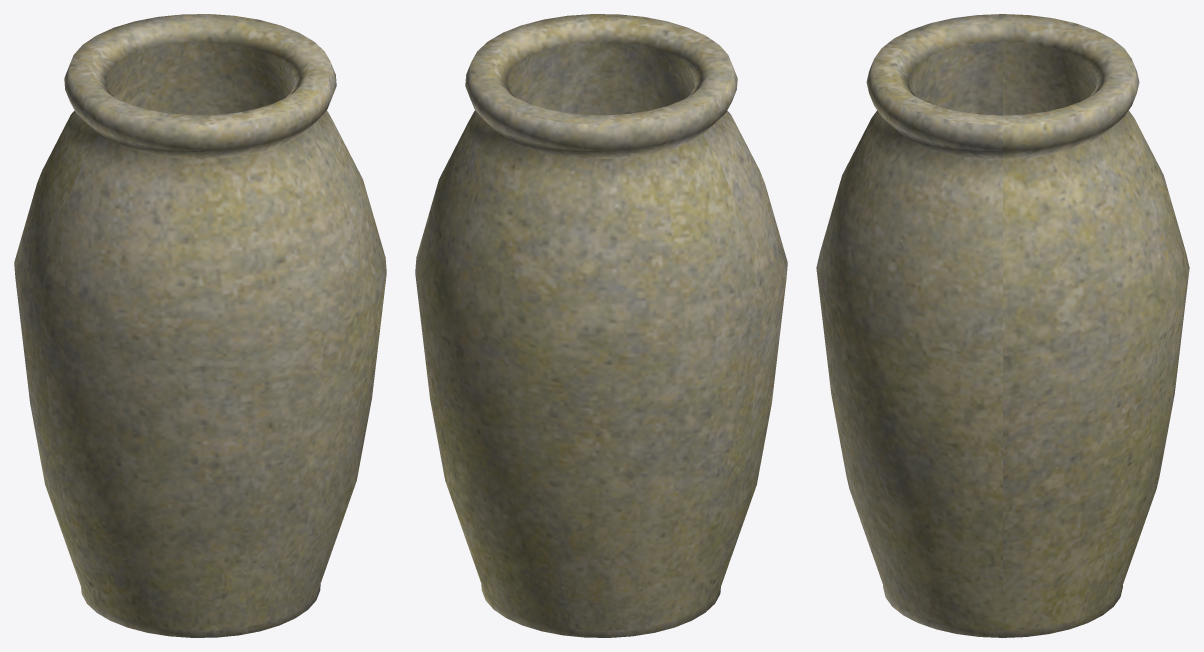
File: jov_porcelain01a.fbx
3 views of the same model, side by side, from view 1: azimuth 30°, elevation 25°; view 2: azimuth 150°, elevation 25°; view 3: azimuth 270°, elevation 25° (orthographic).
Parts seen in each view (by area): view 1: jov_porcelain01a; view 2: jov_porcelain01a; view 3: jov_porcelain01a.
Part boxes in pixels (x1,y1,x2,y2): jov_porcelain01a: (14, 14, 386, 637); jov_porcelain01a: (415, 14, 787, 637); jov_porcelain01a: (816, 14, 1189, 637).
Size of the model in its own units: 0.1945 by 0.2976 by 0.1945.
